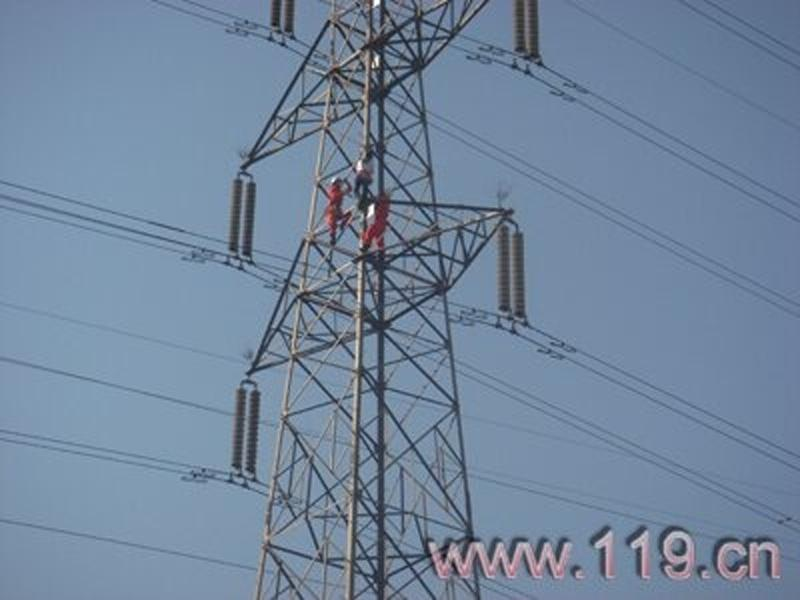power_tower: (196, 7, 582, 592)
